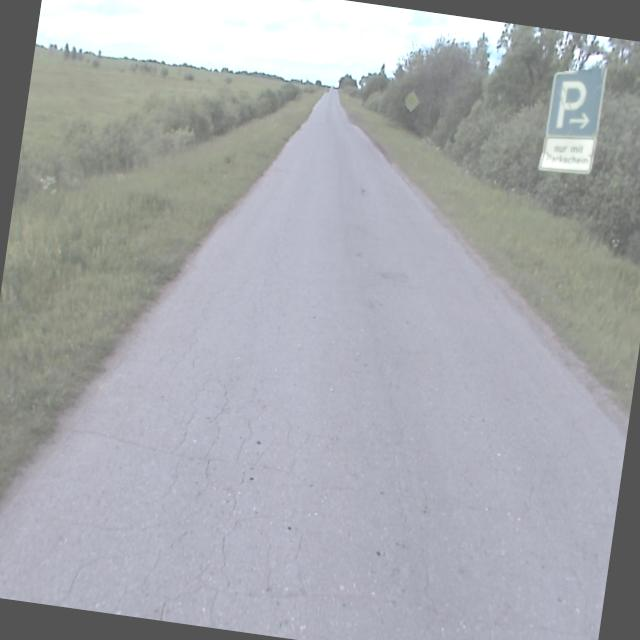road: (0, 90, 626, 640)
